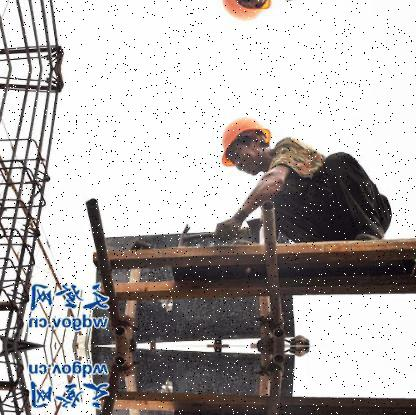helmet: (215, 104, 278, 174), (215, 0, 279, 33)
